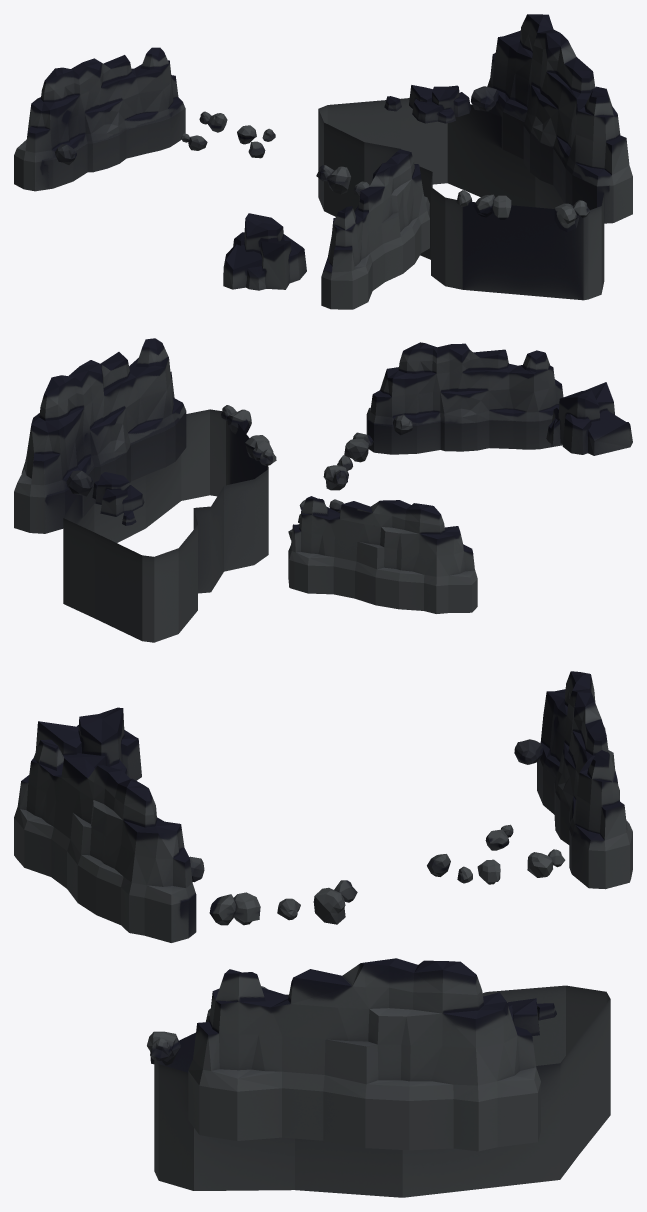
Rendered from Wall_01.FBX.
3 renders of one model, top to bottom at view 1: azimuth 30°, elevation 25°; view 2: azimuth 150°, elevation 25°; view 3: azimuth 270°, elevation 25°, orthographic. The views are drawn at different scales.
Parts seen in each view (by area): view 1: Wall_01; view 2: Wall_01; view 3: Wall_01.
Part boxes in pixels (x1,y1,x2,y2): Wall_01: (14,14,632,309); Wall_01: (14,338,632,642); Wall_01: (14,671,632,1197).
Bounding box in the file's own units: 41.96 × 16.06 × 34.11.
